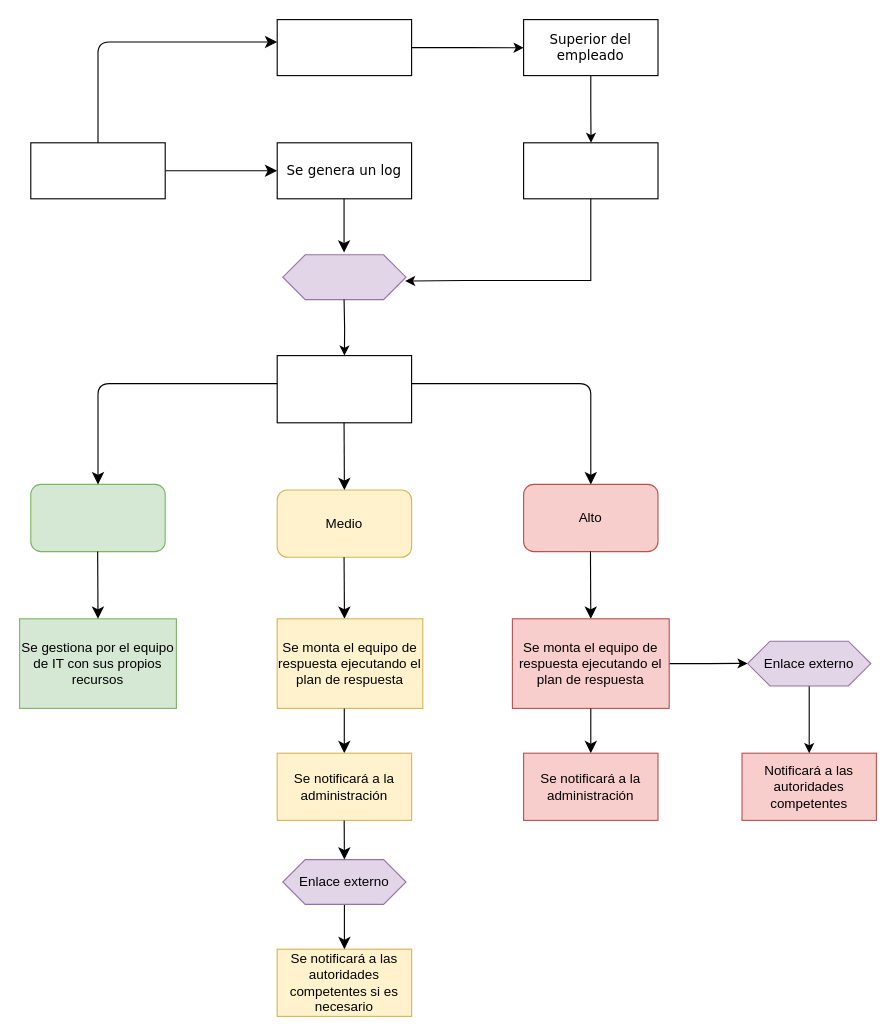
The diagram is 896 pixels wide and 1036 high, and some of its shapes have lost their labels. Here are the shapes that lost their labels. From the top down, the box of each, then its label:
(276, 18, 412, 76): El empleado notifica a su superior
(30, 142, 165, 199): Se produce el incidente
(522, 142, 658, 199): Se genera un ticket
(282, 254, 406, 300): Incident Commander
(276, 354, 412, 423): El equipo de IT evalúa el incidente junto al Incident Commander
(30, 483, 165, 552): Leve
